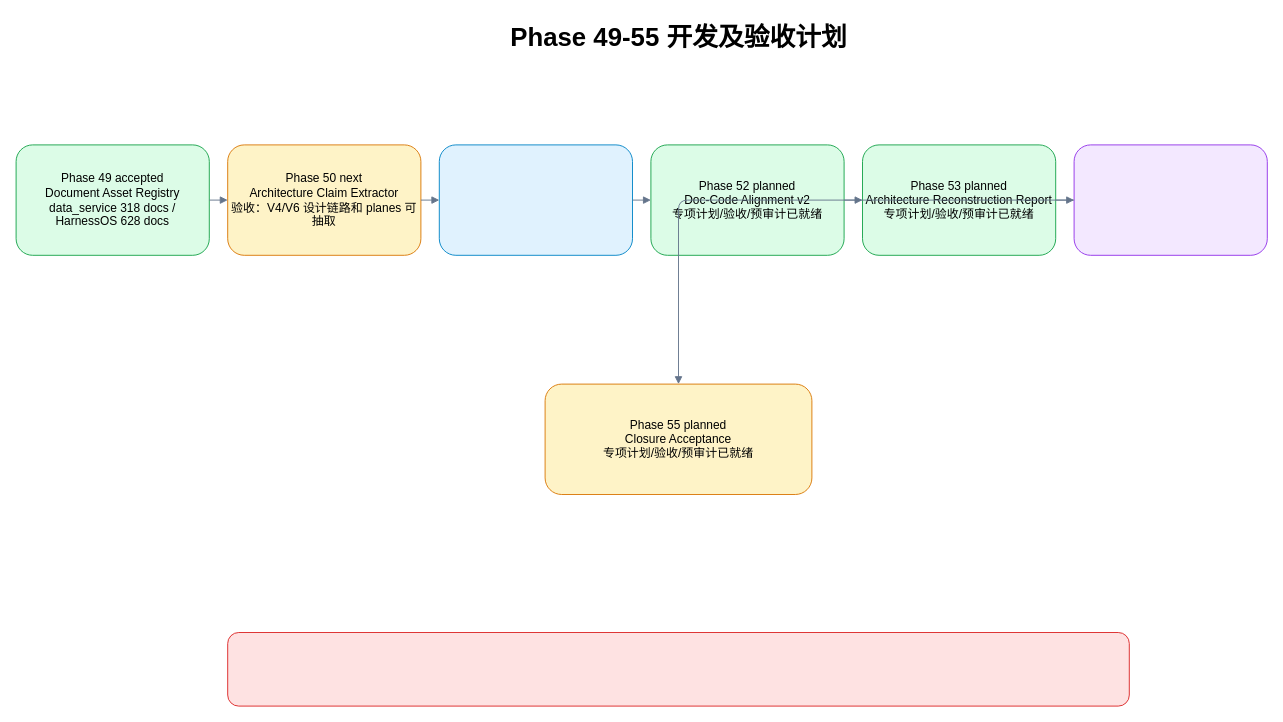
The diagram is 1283 pixels wide and 722 high, and some of its shapes have lost their labels. The shapes that lost their labels are listed below. From the top down, each one's box as (x1, y1, x2, y2) in pixels, then its label:
(438, 144, 632, 255): Phase 51 planned Document Quality Evaluator 专项计划/验收/预审计已就绪
(1073, 144, 1267, 255): Phase 54 planned Governance Integration 专项计划/验收/预审计已就绪
(227, 632, 1129, 706): 每阶段硬门槛：真实仓库、落盘 artifacts、PRD 检视、false-green 审计、无 fatal/major 才进入下一阶段
